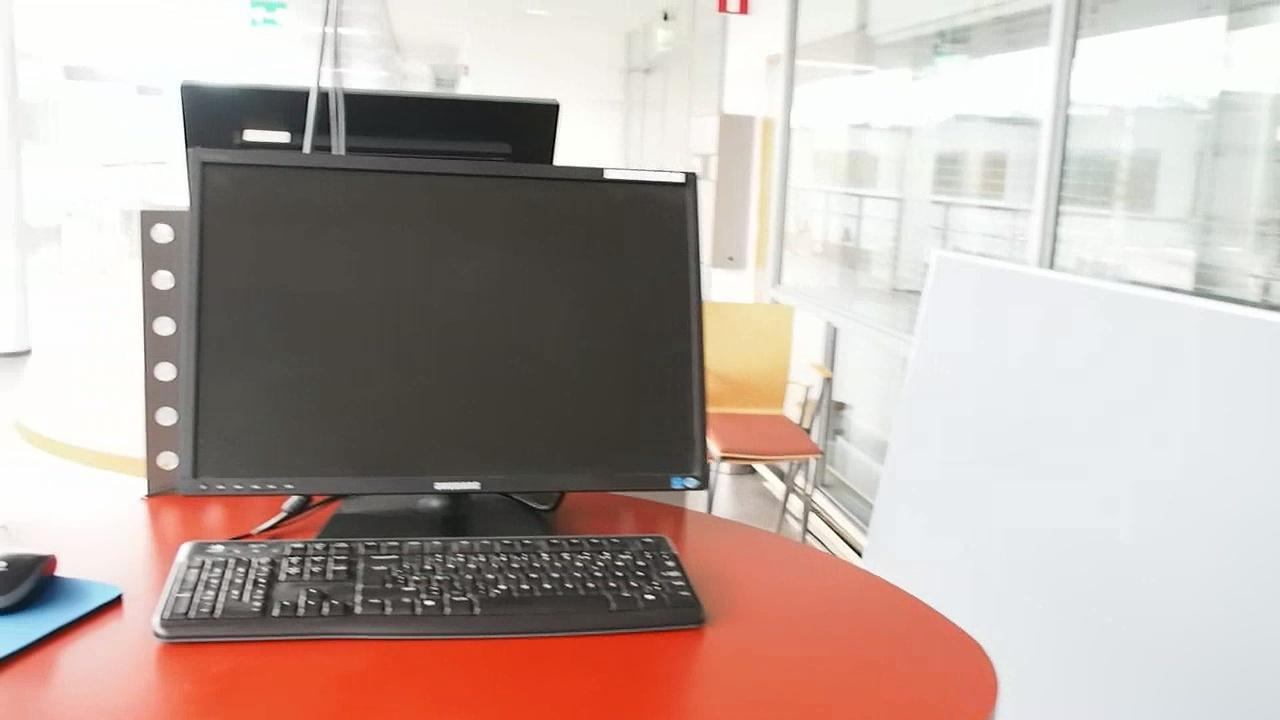chair: (708, 298, 830, 537)
screen: (177, 167, 711, 505)
